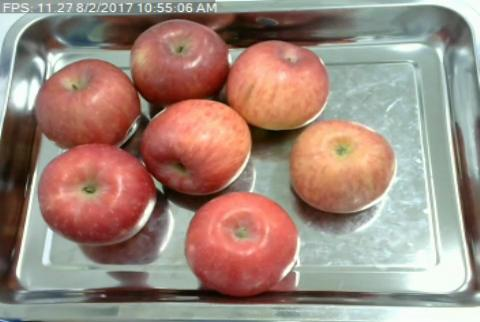apple: (186, 191, 298, 297), (37, 145, 155, 244), (139, 99, 250, 192), (288, 120, 395, 214), (225, 40, 329, 129), (34, 58, 138, 146), (129, 19, 227, 104)
